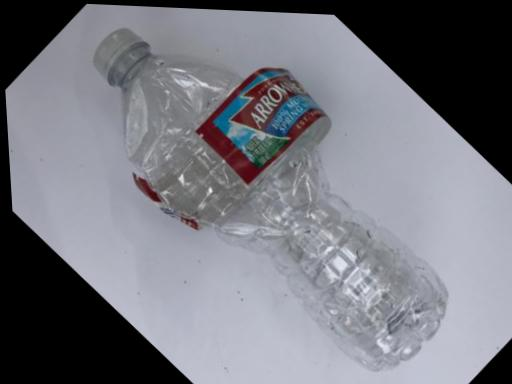plastic: (6, 5, 511, 383)
